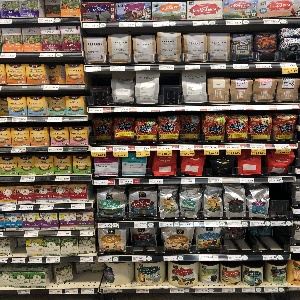void: (221, 223, 292, 258), (72, 259, 104, 298), (83, 69, 114, 109), (268, 181, 296, 222), (158, 71, 184, 109)
